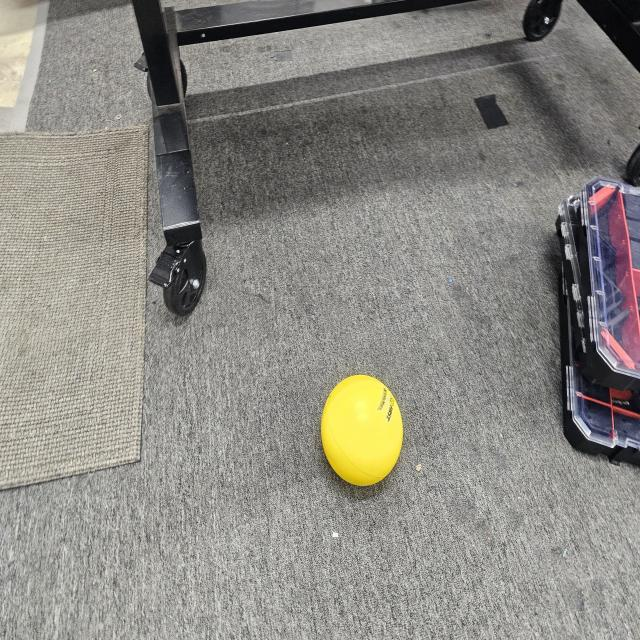Fuel: (312, 368, 418, 498)
